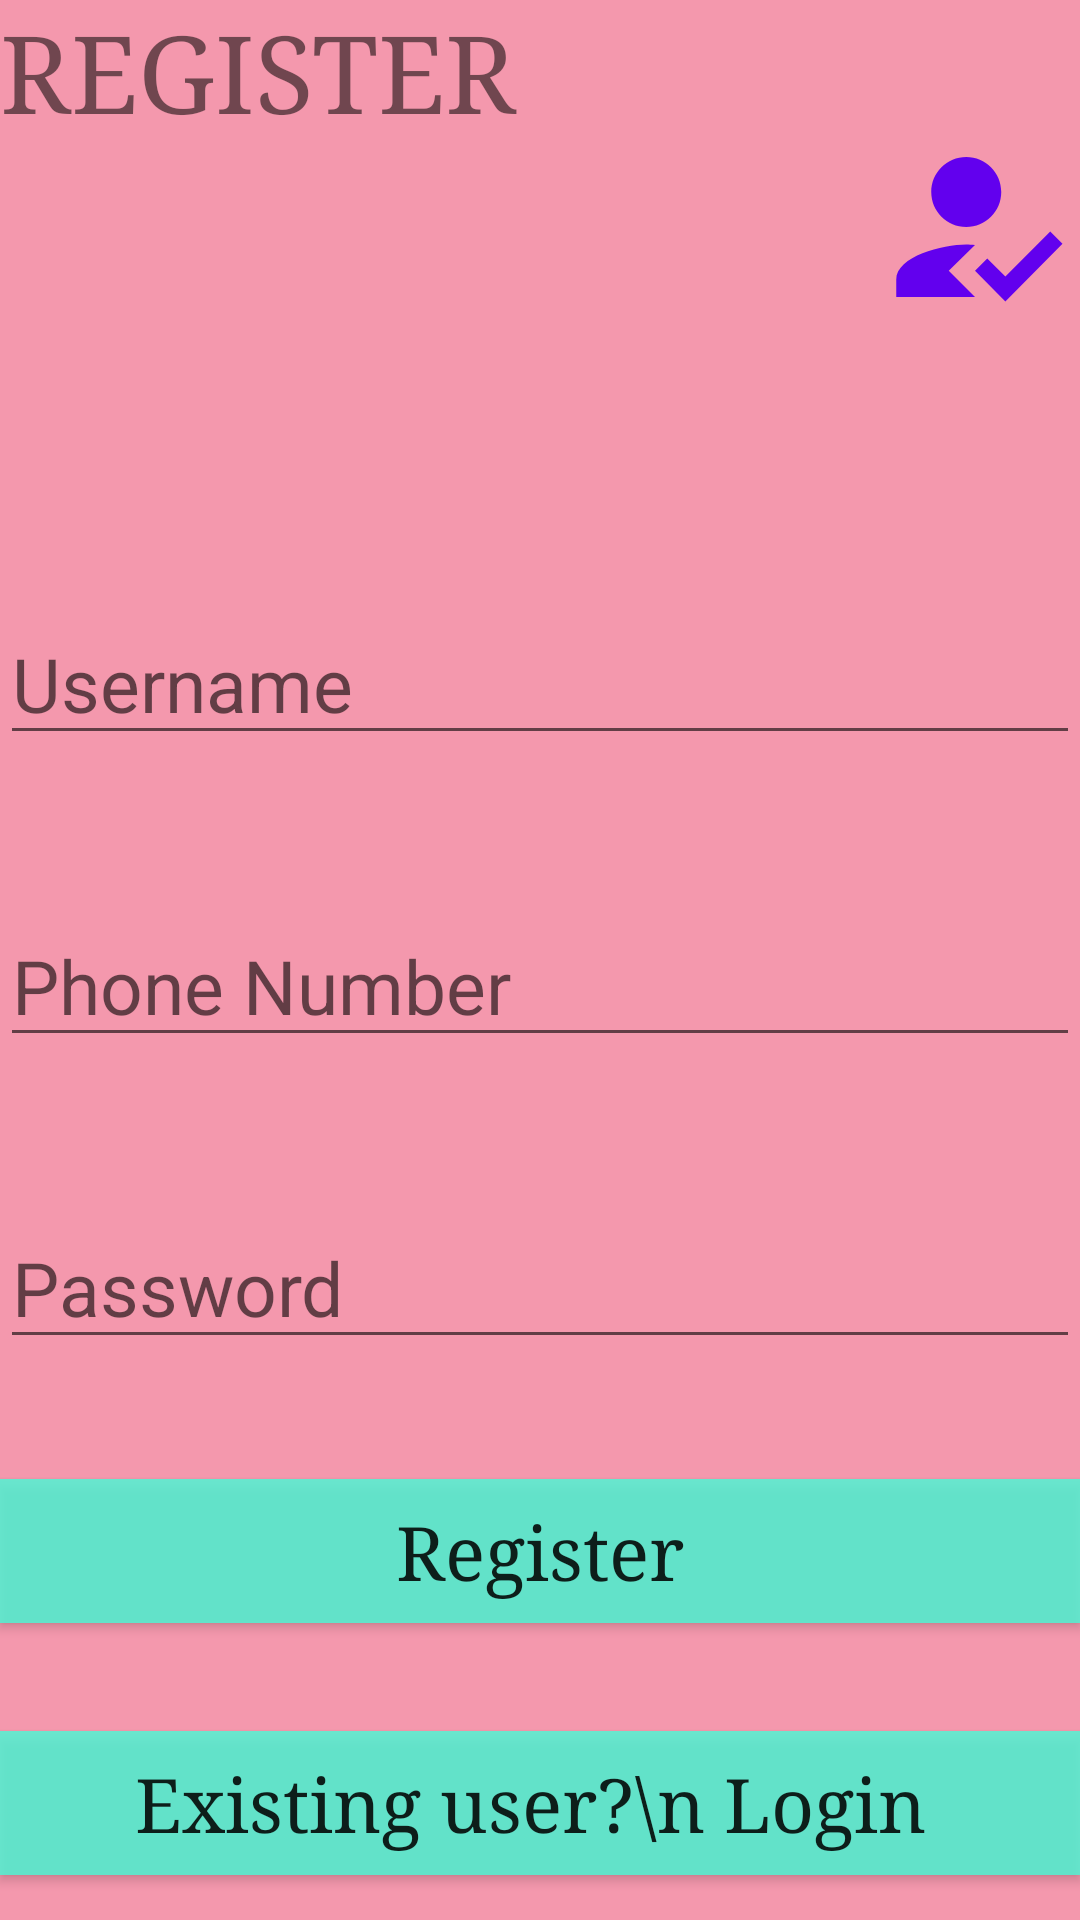

Screen size 1080x1920. Icon name, then its center in pixels as point (x, y):
reg: point (979, 229)
